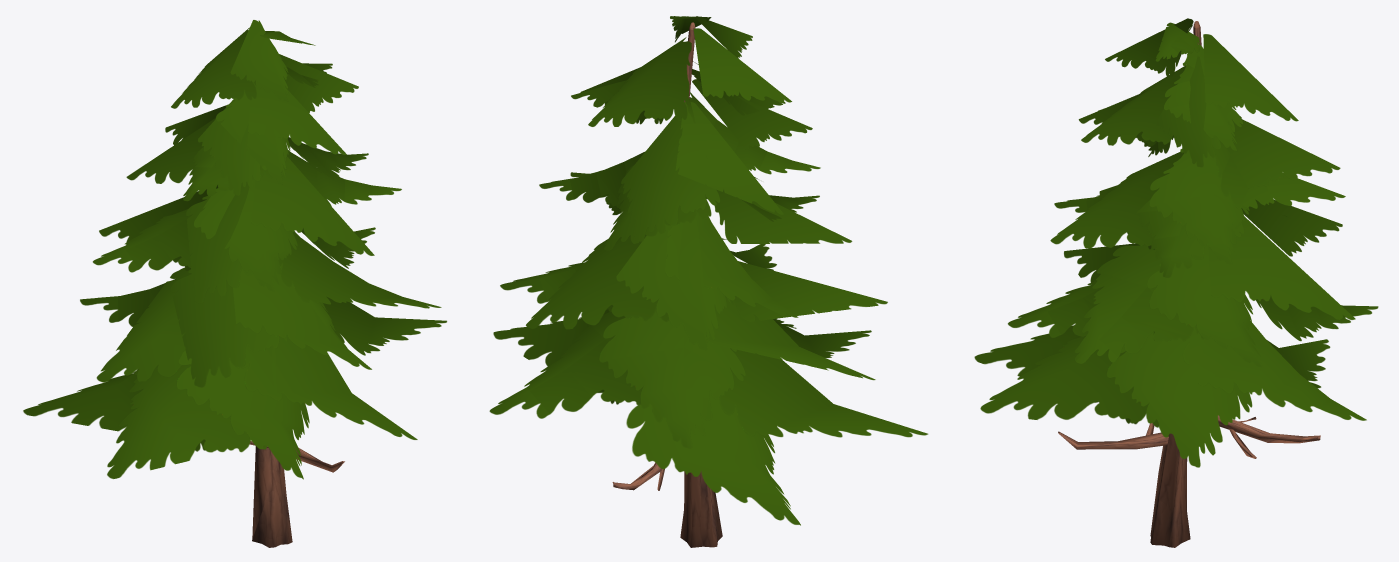
The model's file is spruce-5.glb.
3 renders of one model, left to right at view 1: azimuth 30°, elevation 25°; view 2: azimuth 150°, elevation 25°; view 3: azimuth 270°, elevation 25°, orthographic. The views are drawn at different scales.
Parts seen in each view (by area): view 1: Pine_2; view 2: Pine_2; view 3: Pine_2.
Part boxes in pixels (x1,y1,x2,y2): Pine_2: (23,20,446,547); Pine_2: (489,16,928,547); Pine_2: (974,18,1378,547).
Size of the model in its own units: 5.73 by 7.2 by 5.22.
Materials: 2 (2 with a texture image).
